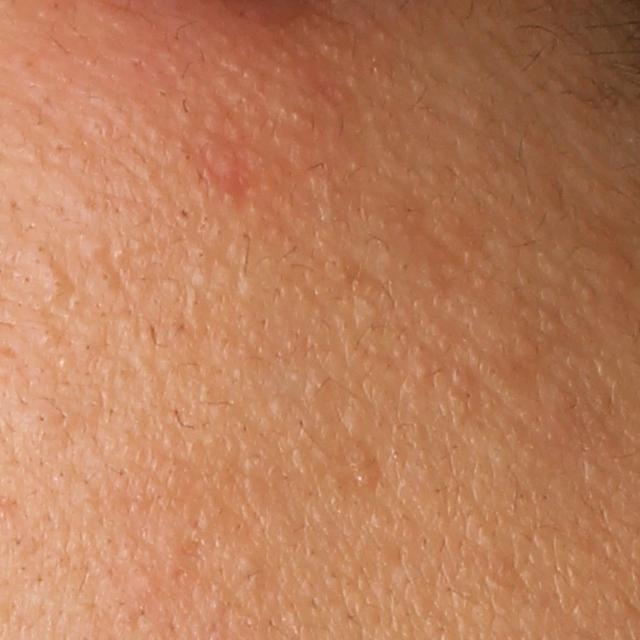comedo: (41, 268, 72, 299), (80, 236, 107, 263), (237, 555, 265, 578), (175, 203, 197, 226), (410, 358, 430, 382), (91, 270, 114, 289)
